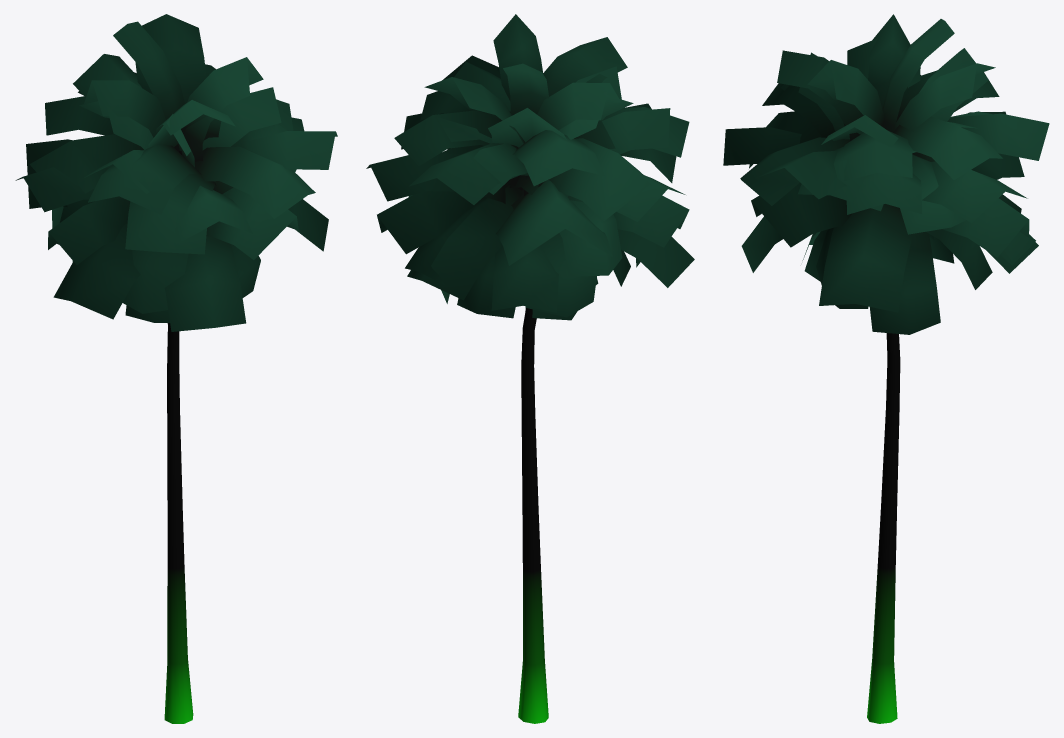
The model's file is SM_DesertCoconutPalm06.fbx.
3 renders of one model, left to right at view 1: azimuth 30°, elevation 25°; view 2: azimuth 150°, elevation 25°; view 3: azimuth 270°, elevation 25°, orthographic.
Visible parts, largest first — view 1: SM_DesertCoconutPalm06_LOD0; view 2: SM_DesertCoconutPalm06_LOD0; view 3: SM_DesertCoconutPalm06_LOD0.
Part boxes in pixels (box(x1,y1,x2,y2)): SM_DesertCoconutPalm06_LOD0: box(15, 14, 337, 723); SM_DesertCoconutPalm06_LOD0: box(366, 14, 694, 723); SM_DesertCoconutPalm06_LOD0: box(723, 14, 1049, 723).
Size of the model in its own units: 746 by 1715 by 737.
